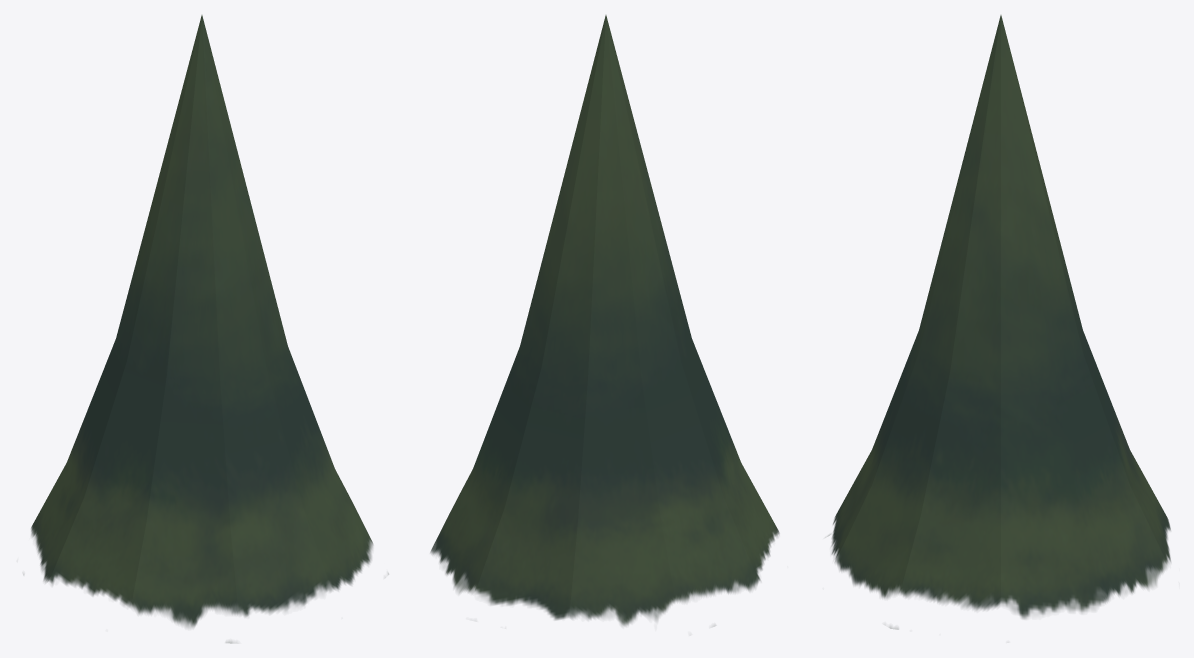
The model's file is polysurface127_lambert6_0.004_lev2.glb.
3 views of the same model, side by side, from view 1: azimuth 30°, elevation 25°; view 2: azimuth 150°, elevation 25°; view 3: azimuth 270°, elevation 25° (orthographic).
Visible parts, largest first — view 1: polysurface127_lambert6_0.004_lev2; view 2: polysurface127_lambert6_0.004_lev2; view 3: polysurface127_lambert6_0.004_lev2.
Part boxes in pixels (left/top/right/bottom): polysurface127_lambert6_0.004_lev2: left=23, top=15, right=388, bottom=643; polysurface127_lambert6_0.004_lev2: left=430, top=15, right=779, bottom=626; polysurface127_lambert6_0.004_lev2: left=827, top=15, right=1170, bottom=629.
Bounding box in the file's own units: 3.55 × 5.74 × 3.38.
1 material, 1 textured.
